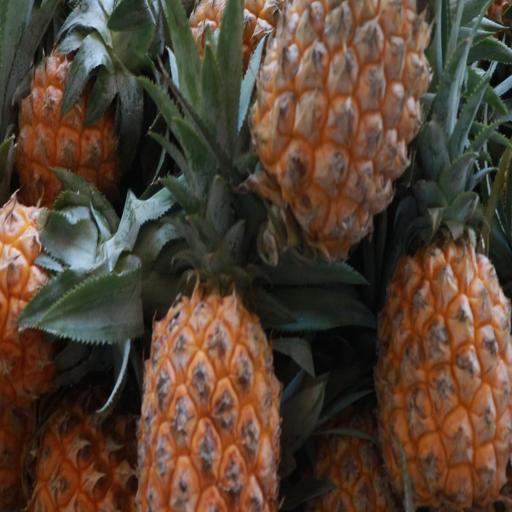Pineapple - v8 v1: (246, 0, 437, 272), (370, 151, 512, 512), (134, 239, 283, 512), (0, 188, 136, 406), (15, 0, 132, 218)
